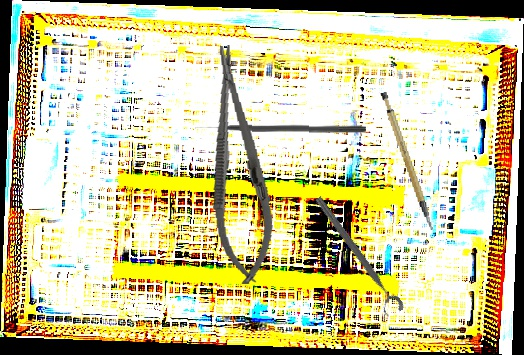Fixation Ring: (305, 193, 407, 321)
Needle Holder: (196, 42, 281, 287)
Pusher: (194, 121, 367, 134)
Scalpel Handle: (378, 88, 434, 235)
